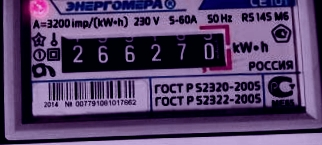0: (202, 40, 214, 61)
2: (70, 43, 84, 64), (149, 41, 161, 63)
6: (96, 44, 109, 64), (122, 43, 135, 63)
7: (174, 41, 187, 62)
screen: (50, 20, 239, 82)
